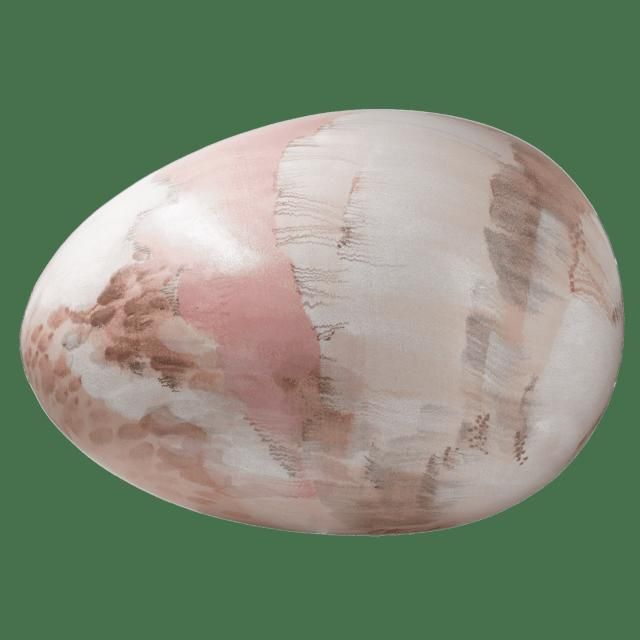Blood Stained Egg: (4, 95, 634, 560)
